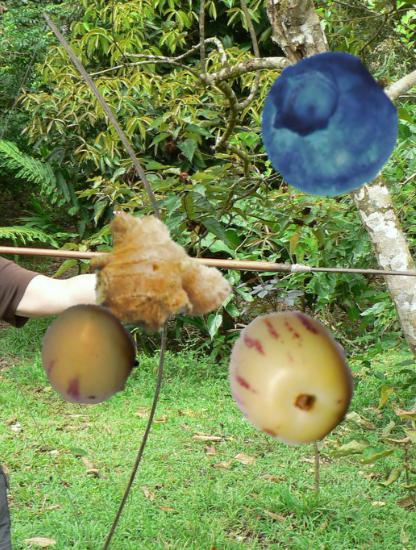Ginger: (88, 198, 233, 343)
Huckleberry: (255, 54, 399, 198)
Pepino: (224, 309, 359, 444), (40, 306, 141, 407)
